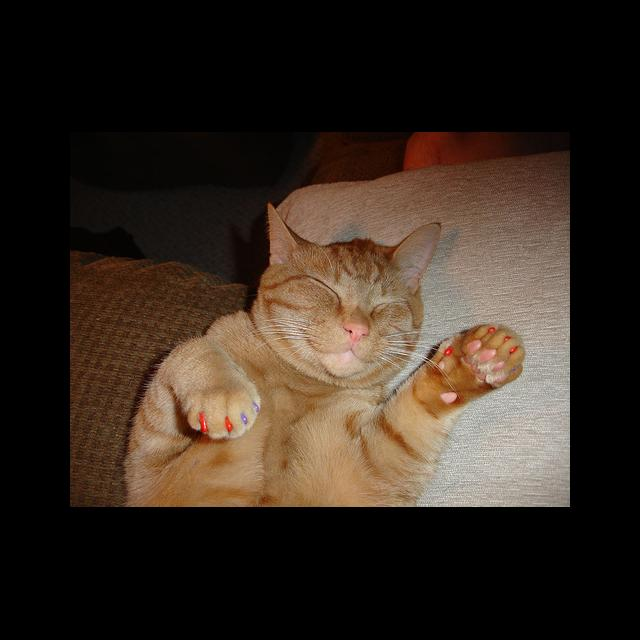animals: (268, 202, 438, 342)
